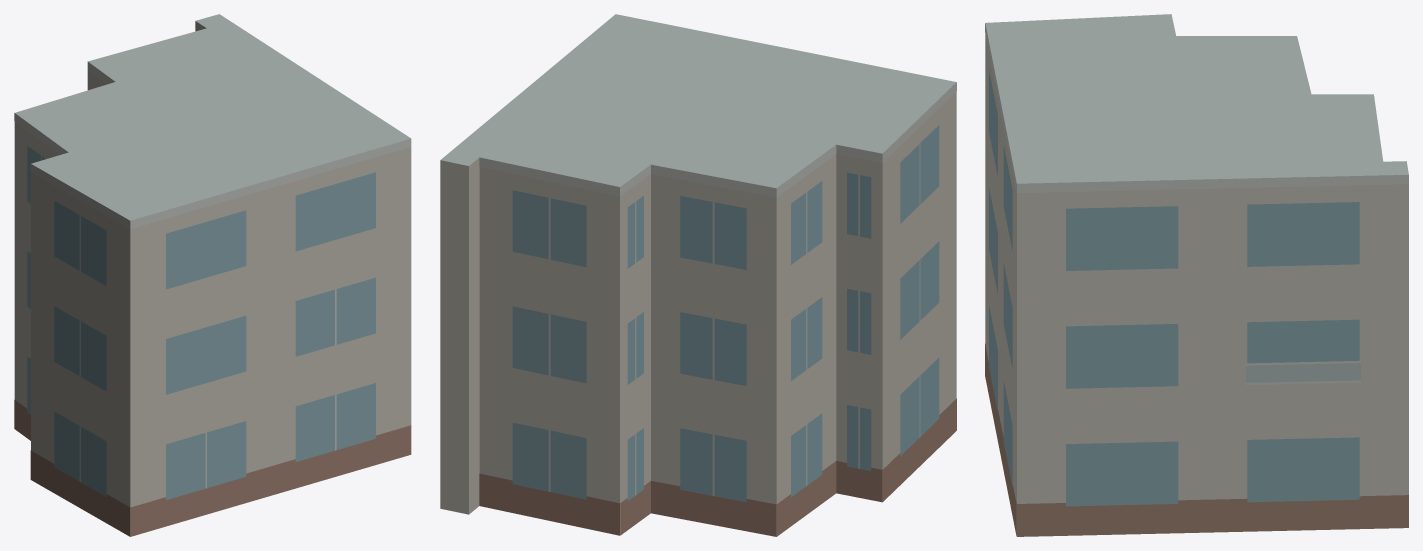
Rendered from survey-upis-32513143.glb.
3 views of the same model, side by side, from view 1: azimuth 30°, elevation 25°; view 2: azimuth 150°, elevation 25°; view 3: azimuth 270°, elevation 25° (orthographic). The views are drawn at different scales.
Parts seen in each view (by area): view 1: survey-upis-32513143.tmp; view 2: survey-upis-32513143.tmp; view 3: survey-upis-32513143.tmp.
Boxes of the visible parts, x1,y1,x2,y2 form: survey-upis-32513143.tmp: (14,14,411,536); survey-upis-32513143.tmp: (440,14,956,536); survey-upis-32513143.tmp: (985,14,1408,536).
Bounding box in the file's own units: 9.44 × 9.15 × 9.95.
